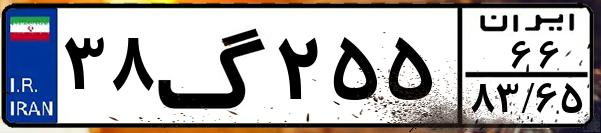2: (270, 28, 330, 110)
3: (57, 26, 110, 100), (495, 70, 520, 125)
5: (385, 28, 445, 110), (330, 28, 385, 110), (560, 70, 590, 125)
6: (537, 27, 568, 80), (508, 27, 537, 80), (535, 70, 560, 125)
8: (110, 28, 156, 98), (470, 70, 495, 125)
گ: (156, 12, 270, 120)
